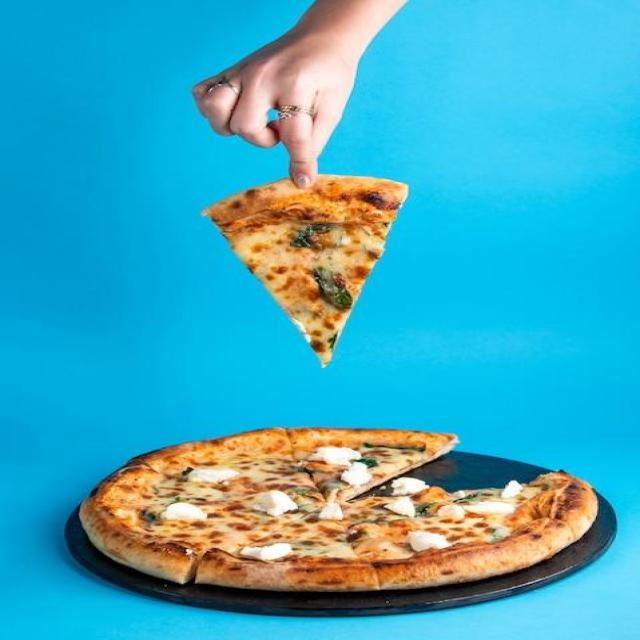basil: (313, 262, 357, 312), (416, 490, 486, 516), (286, 218, 335, 250), (347, 515, 394, 531), (288, 542, 331, 558), (362, 442, 428, 452), (281, 464, 325, 478), (361, 443, 427, 452), (152, 481, 182, 500), (289, 484, 315, 501), (452, 492, 488, 504), (319, 478, 346, 494), (162, 496, 212, 504), (487, 528, 515, 542), (295, 497, 319, 513), (352, 457, 378, 468), (162, 496, 192, 503), (397, 541, 413, 553), (180, 468, 194, 478), (152, 485, 160, 497)
pizza: (80, 425, 602, 591), (203, 175, 404, 370)
